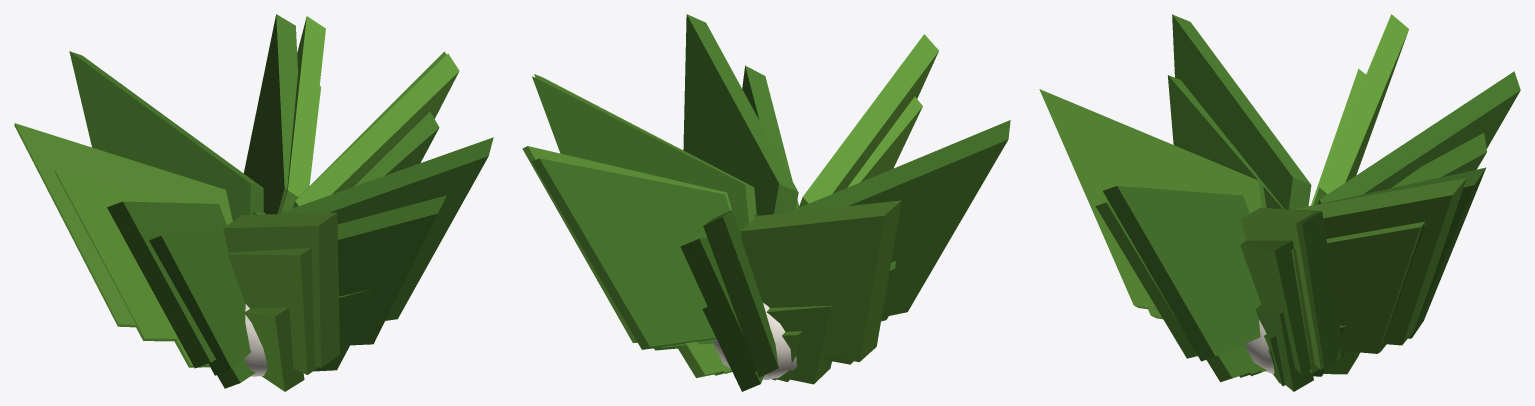
Rendered from Crop_Veg_Turnip.fbx.
The picture shows the model from 3 angles, left to right: view 1: azimuth 30°, elevation 25°; view 2: azimuth 150°, elevation 25°; view 3: azimuth 270°, elevation 25°; orthographic projection. The views are drawn at different scales.
Visible parts, largest first — view 1: Crop_Veg_Turnip__S4, Crop_Veg_Turnip__S3, Crop_Veg_Turnip__S2; view 2: Crop_Veg_Turnip__S4, Crop_Veg_Turnip__S3, Crop_Veg_Turnip__S2, Crop_Veg_Turnip__S5; view 3: Crop_Veg_Turnip__S4, Crop_Veg_Turnip__S3, Crop_Veg_Turnip__S2, Crop_Veg_Turnip__S5.
Part boxes in pixels (bbox=[...]): Crop_Veg_Turnip__S4: bbox=[14, 14, 493, 376]; Crop_Veg_Turnip__S3: bbox=[54, 86, 446, 375]; Crop_Veg_Turnip__S2: bbox=[174, 289, 373, 391]; Crop_Veg_Turnip__S4: bbox=[522, 14, 1010, 379]; Crop_Veg_Turnip__S3: bbox=[653, 65, 922, 377]; Crop_Veg_Turnip__S2: bbox=[678, 261, 895, 391]; Crop_Veg_Turnip__S5: bbox=[714, 331, 802, 381]; Crop_Veg_Turnip__S4: bbox=[1039, 14, 1520, 373]; Crop_Veg_Turnip__S3: bbox=[1095, 68, 1486, 374]; Crop_Veg_Turnip__S2: bbox=[1206, 304, 1359, 391]; Crop_Veg_Turnip__S5: bbox=[1239, 325, 1345, 386].
Size of the model in its own units: 0.162 by 0.0971 by 0.1635.
